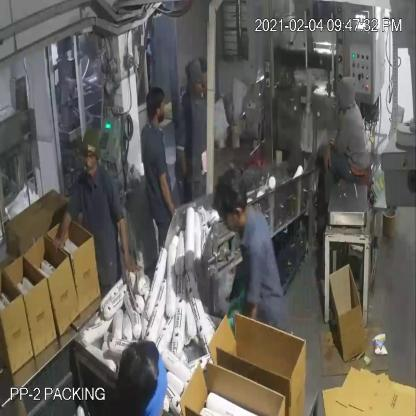no_glove: (112, 210, 143, 276), (156, 168, 184, 228), (54, 199, 72, 260), (173, 147, 196, 186), (320, 140, 338, 177)
